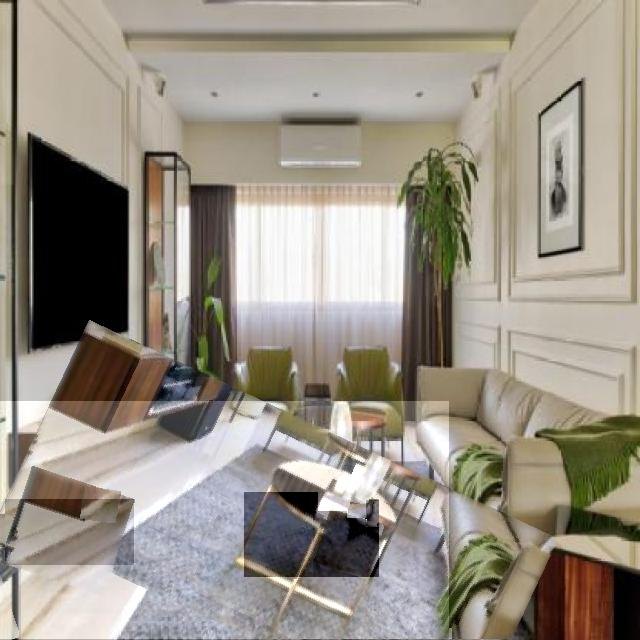floor: (0, 401, 449, 640), (6, 499, 134, 565), (245, 493, 318, 577), (314, 511, 379, 577), (0, 576, 19, 637), (82, 491, 121, 520), (0, 514, 16, 547), (366, 500, 379, 527), (348, 507, 368, 518), (443, 629, 452, 639), (350, 524, 358, 531)
